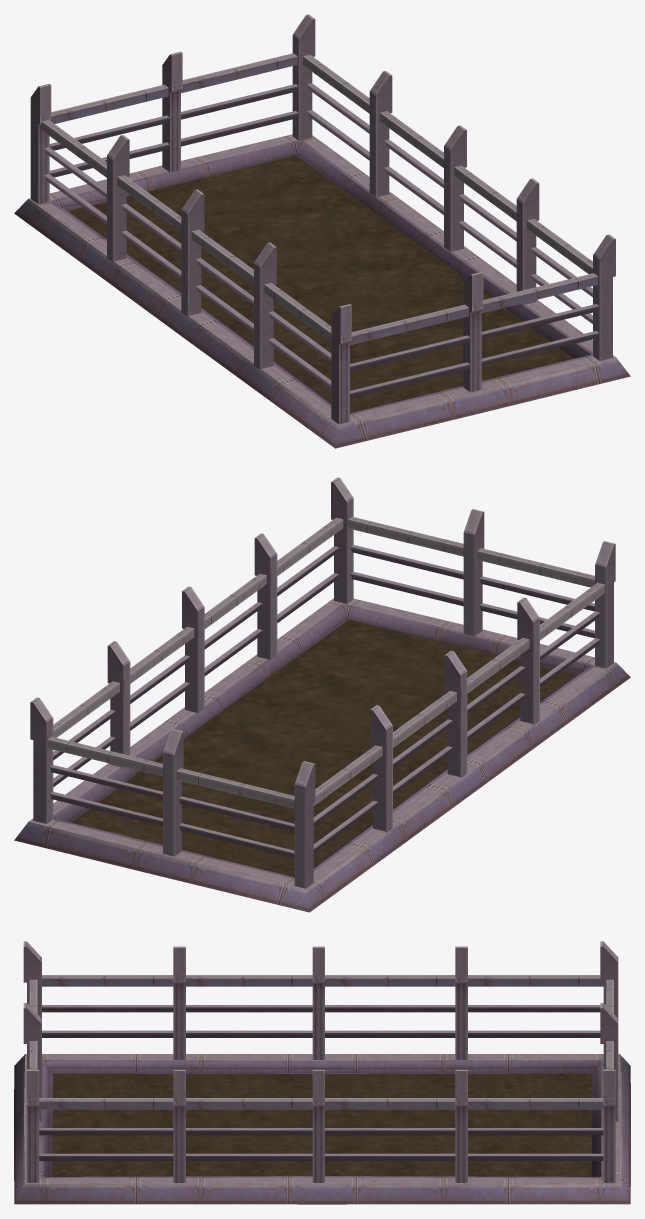
Rendered from zc_lekesigang_langan02.FBX.
The picture shows the model from 3 angles, top to bottom: view 1: azimuth 30°, elevation 25°; view 2: azimuth 150°, elevation 25°; view 3: azimuth 270°, elevation 25°; orthographic projection. The views are drawn at different scales.
Visible parts, largest first — view 1: zc_lekesigang_langan02; view 2: zc_lekesigang_langan02; view 3: zc_lekesigang_langan02.
Boxes of the visible parts, x1,y1,x2,y2 form: zc_lekesigang_langan02: (14, 14, 630, 448); zc_lekesigang_langan02: (14, 477, 630, 912); zc_lekesigang_langan02: (14, 941, 630, 1204).
Size of the model in its own units: 274 by 119 by 515.
Materials: 1 (1 with a texture image).
